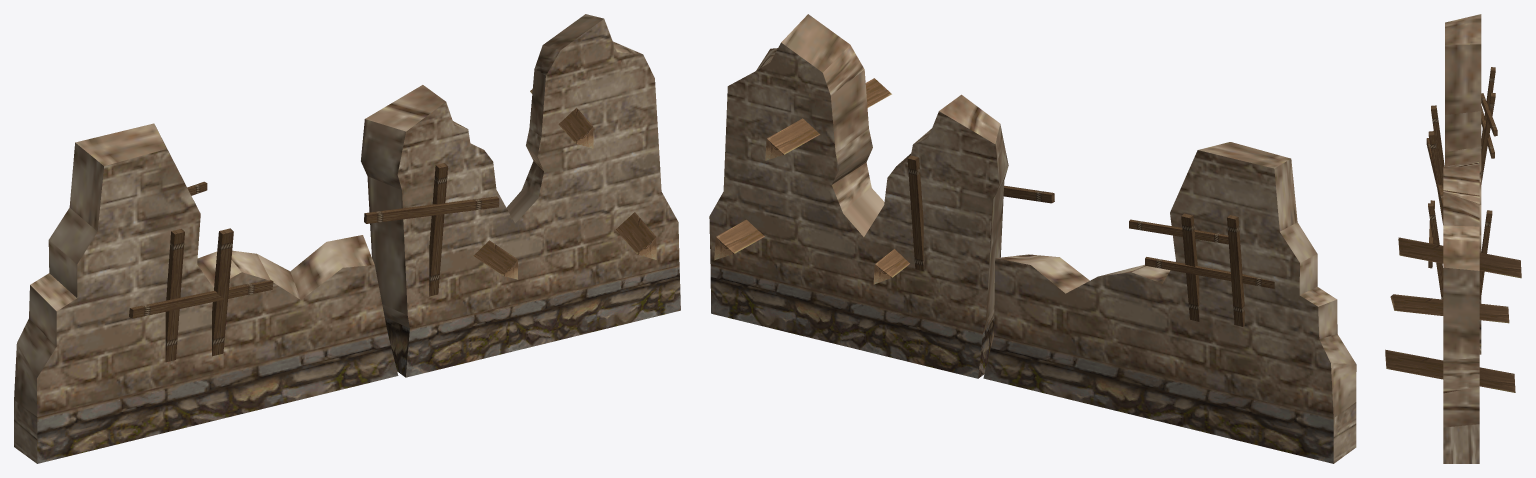
Rendered from 4008_Item_poqiang_1.FBX.
The picture shows the model from 3 angles, left to right: view 1: azimuth 30°, elevation 25°; view 2: azimuth 150°, elevation 25°; view 3: azimuth 270°, elevation 25°; orthographic projection. The views are drawn at different scales.
Parts seen in each view (by area): view 1: 4008_Item_poqiang_1; view 2: 4008_Item_poqiang_1; view 3: 4008_Item_poqiang_1.
Boxes of the visible parts, box(x1,y1,x2,y2) form: 4008_Item_poqiang_1: box(14, 14, 680, 463); 4008_Item_poqiang_1: box(709, 14, 1356, 463); 4008_Item_poqiang_1: box(1385, 14, 1521, 463).
Bounding box in the file's own units: 1868 × 860 × 439.
